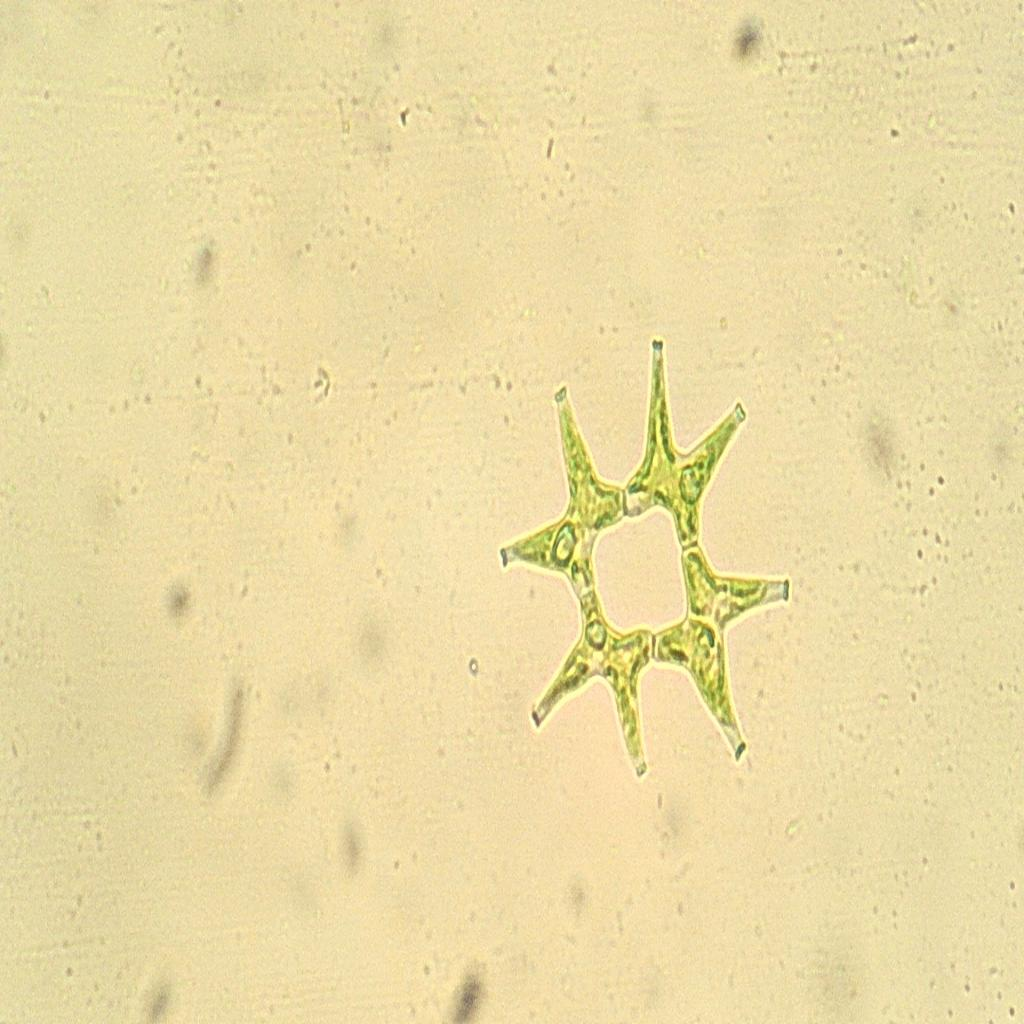Pediastrum_75O: (482, 321, 811, 828)
